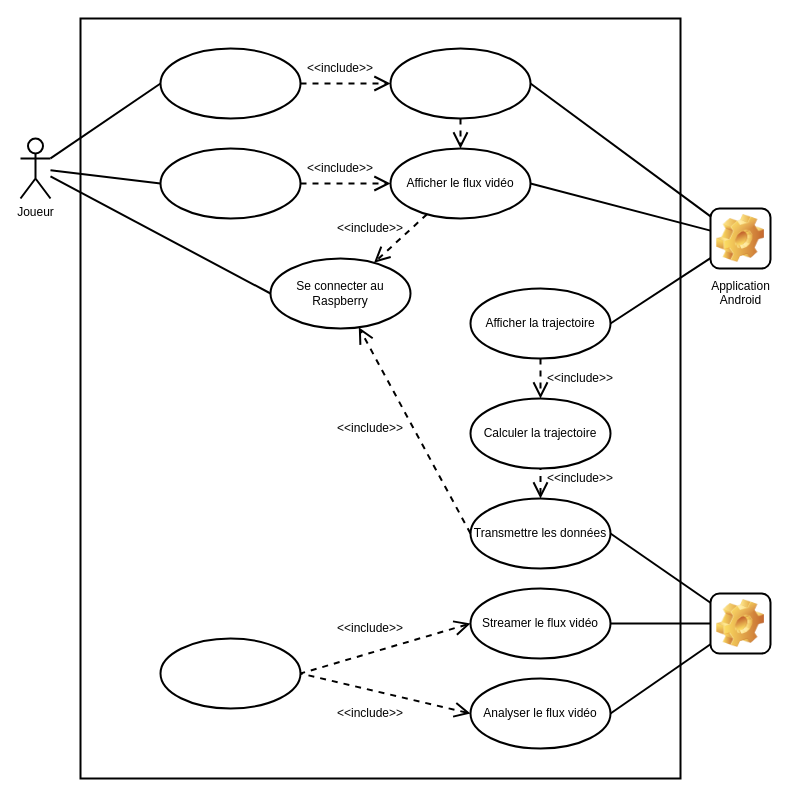
This 793x796 diagram has some shape labels left out. The shapes that lost their labels are listed below. From the top down, each one's box as (x1, y1, x2, y2) in pixels, then its label:
(159, 47, 301, 119): Placer la queue
(389, 47, 531, 119): Gérer l'affichage de la queue
(159, 147, 301, 219): Visualiser le flux vidéo
(709, 592, 771, 654): Raspberry PI
(159, 637, 301, 709): Réceptionner le flux vidéo
